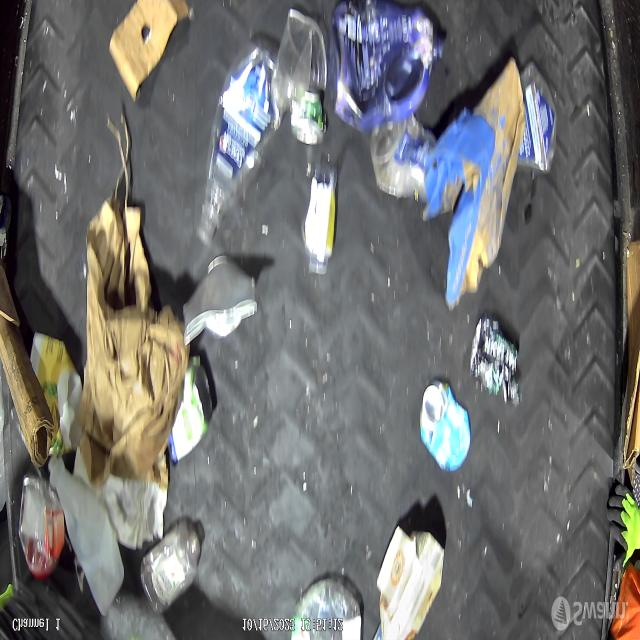can: (160, 351, 212, 469), (416, 374, 472, 469), (286, 83, 328, 151)
milk_jug: (48, 450, 128, 614)
non_white_jug: (335, 0, 449, 133)
